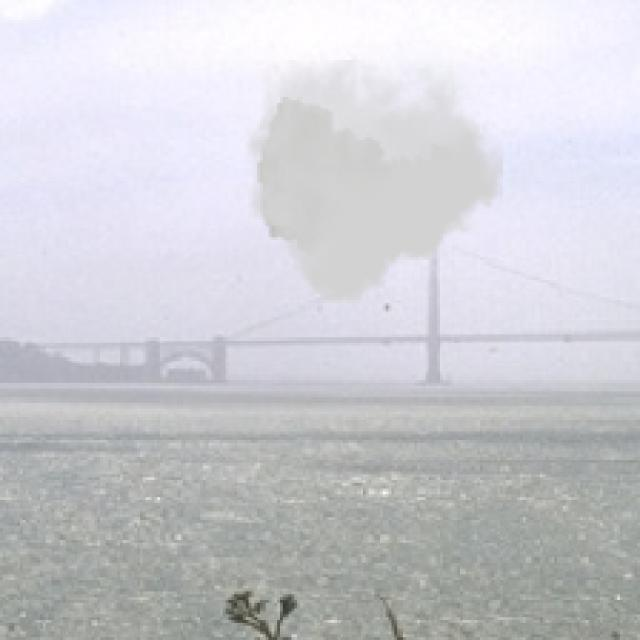Smoke: (246, 60, 503, 303)
